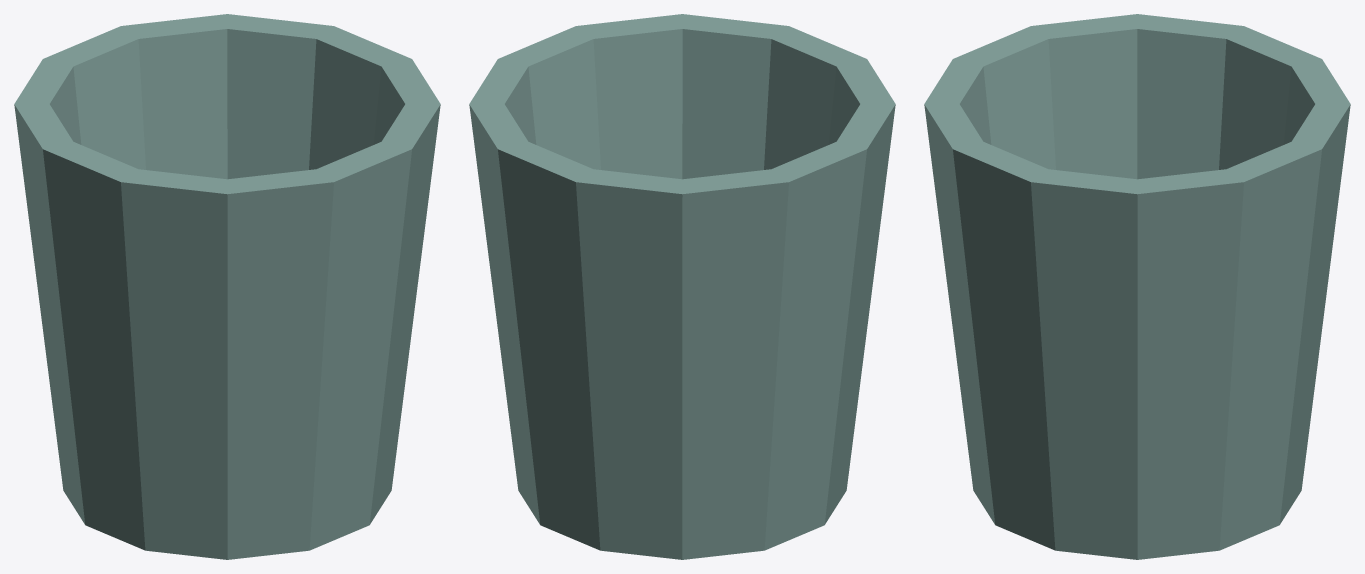
File: copo_dois.fbx
3 views of the same model, side by side, from view 1: azimuth 30°, elevation 25°; view 2: azimuth 150°, elevation 25°; view 3: azimuth 270°, elevation 25° (orthographic).
Parts seen in each view (by area): view 1: copo_dois; view 2: copo_dois; view 3: copo_dois.
Boxes of the visible parts, left/top/right/bottom form: copo_dois: left=14, top=14, right=440, bottom=559; copo_dois: left=469, top=14, right=895, bottom=559; copo_dois: left=924, top=14, right=1350, bottom=559.
Bounding box in the file's own units: 9.47 × 9.47 × 9.47.
